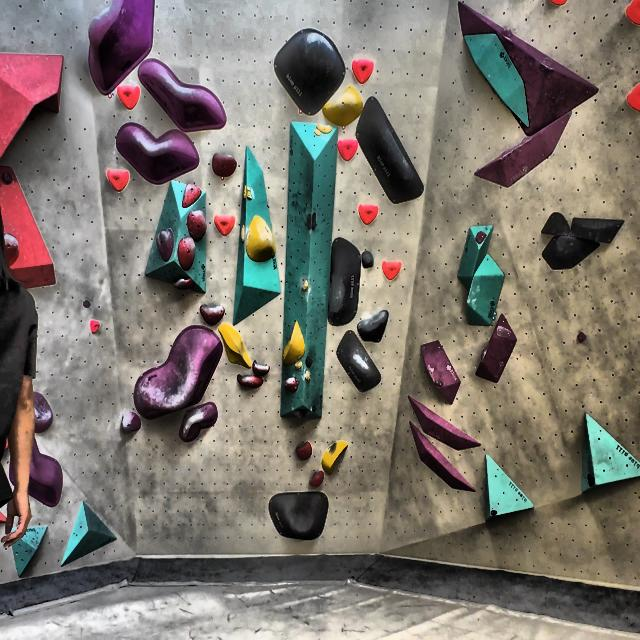Hold: (448, 0, 598, 129), (470, 118, 578, 188), (360, 93, 427, 200), (265, 26, 344, 116), (140, 326, 218, 417), (86, 0, 152, 106), (143, 55, 230, 128), (404, 417, 475, 498), (405, 390, 492, 454), (542, 204, 622, 266), (114, 126, 198, 182), (0, 438, 68, 506), (264, 493, 335, 549), (336, 332, 382, 398), (330, 239, 362, 326), (418, 340, 459, 404), (478, 320, 517, 383), (246, 210, 281, 265), (183, 401, 220, 450), (219, 317, 251, 370), (324, 86, 366, 126), (282, 314, 308, 366), (355, 311, 392, 344), (208, 146, 240, 182), (322, 440, 348, 481), (152, 227, 177, 266), (0, 227, 22, 266), (117, 81, 142, 110), (238, 360, 269, 383), (213, 210, 236, 240), (351, 56, 377, 82), (288, 434, 313, 461), (178, 237, 198, 269), (182, 182, 202, 211), (106, 168, 130, 192), (186, 211, 204, 241), (306, 467, 329, 490), (304, 209, 321, 240), (197, 308, 220, 330), (622, 0, 640, 28), (118, 410, 140, 432), (629, 83, 640, 113), (171, 279, 193, 293), (362, 246, 375, 269), (89, 321, 102, 339), (299, 274, 310, 292), (287, 376, 299, 392), (575, 331, 587, 346)
